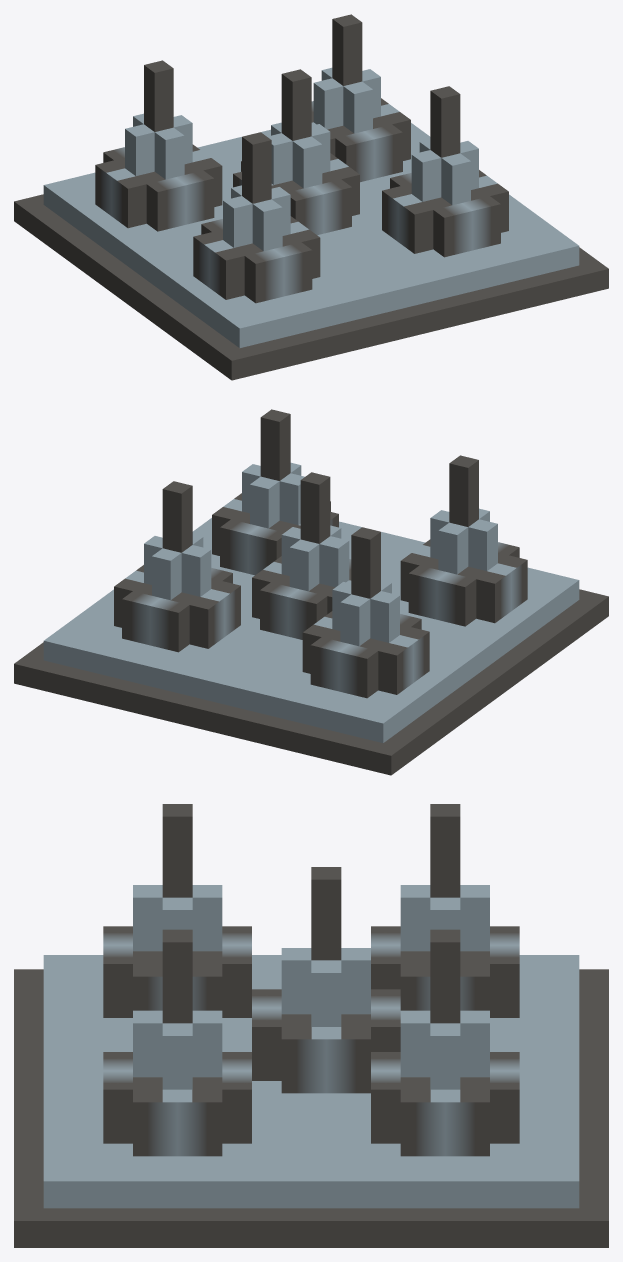
The model's file is Matrix_4.fbx.
3 renders of one model, top to bottom at view 1: azimuth 30°, elevation 25°; view 2: azimuth 150°, elevation 25°; view 3: azimuth 270°, elevation 25°, orthographic. The views are drawn at different scales.
Parts seen in each view (by area): view 1: Matrix_4; view 2: Matrix_4; view 3: Matrix_4.
Part boxes in pixels (x1,y1,x2,y2): Matrix_4: (14, 14, 608, 380); Matrix_4: (14, 409, 608, 775); Matrix_4: (14, 804, 608, 1247).
Bounding box in the file's own units: 20 × 9 × 20.
